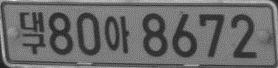0: (76, 12, 101, 55)
2: (230, 13, 257, 58)
6: (171, 13, 198, 58)
7: (198, 13, 224, 57)
8: (141, 12, 169, 57), (47, 11, 73, 55)
대구_V: (19, 11, 47, 55)
아: (104, 15, 130, 54)
